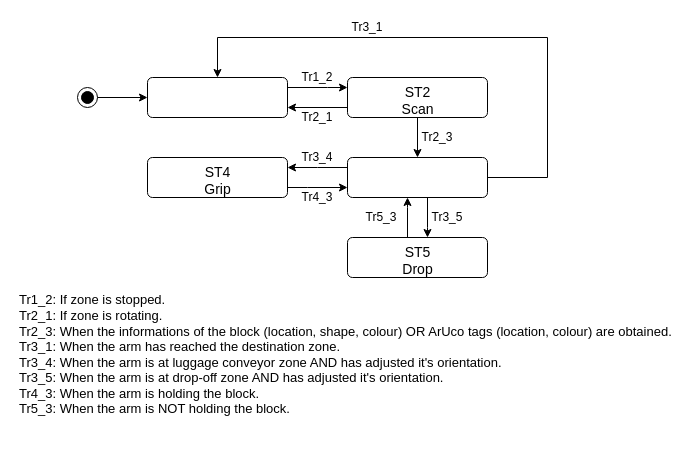
Some shapes in this 694 by 454 pixel diagram are drawn without their labels. The centre of each missing label's shape, as x and y in pixels:
ST1 Wait: pixel 217 97
ST3 Move: pixel 417 177
